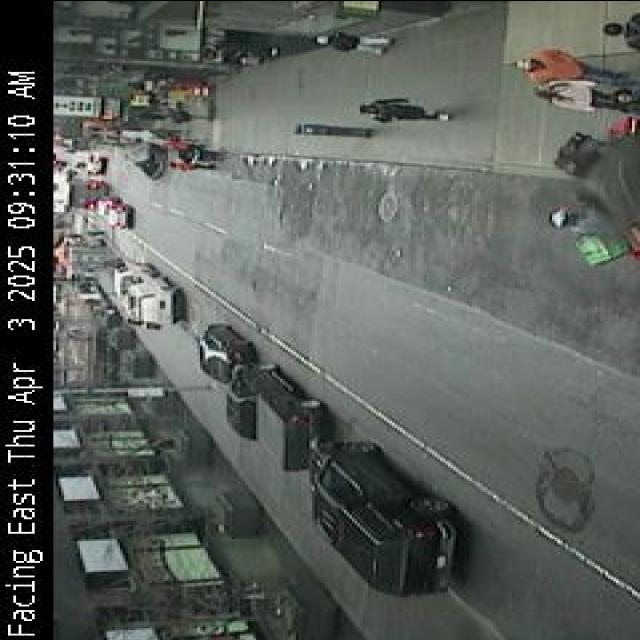open parking: (383, 499, 640, 634), (140, 266, 253, 368)
